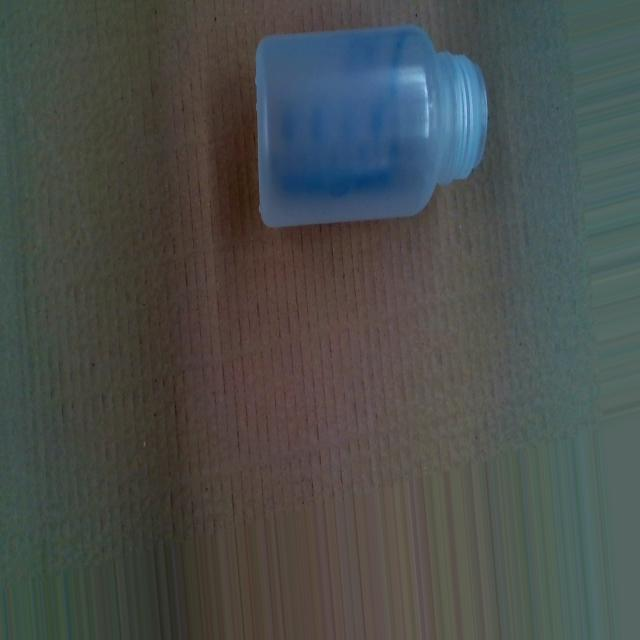bottle: (252, 19, 490, 231)
